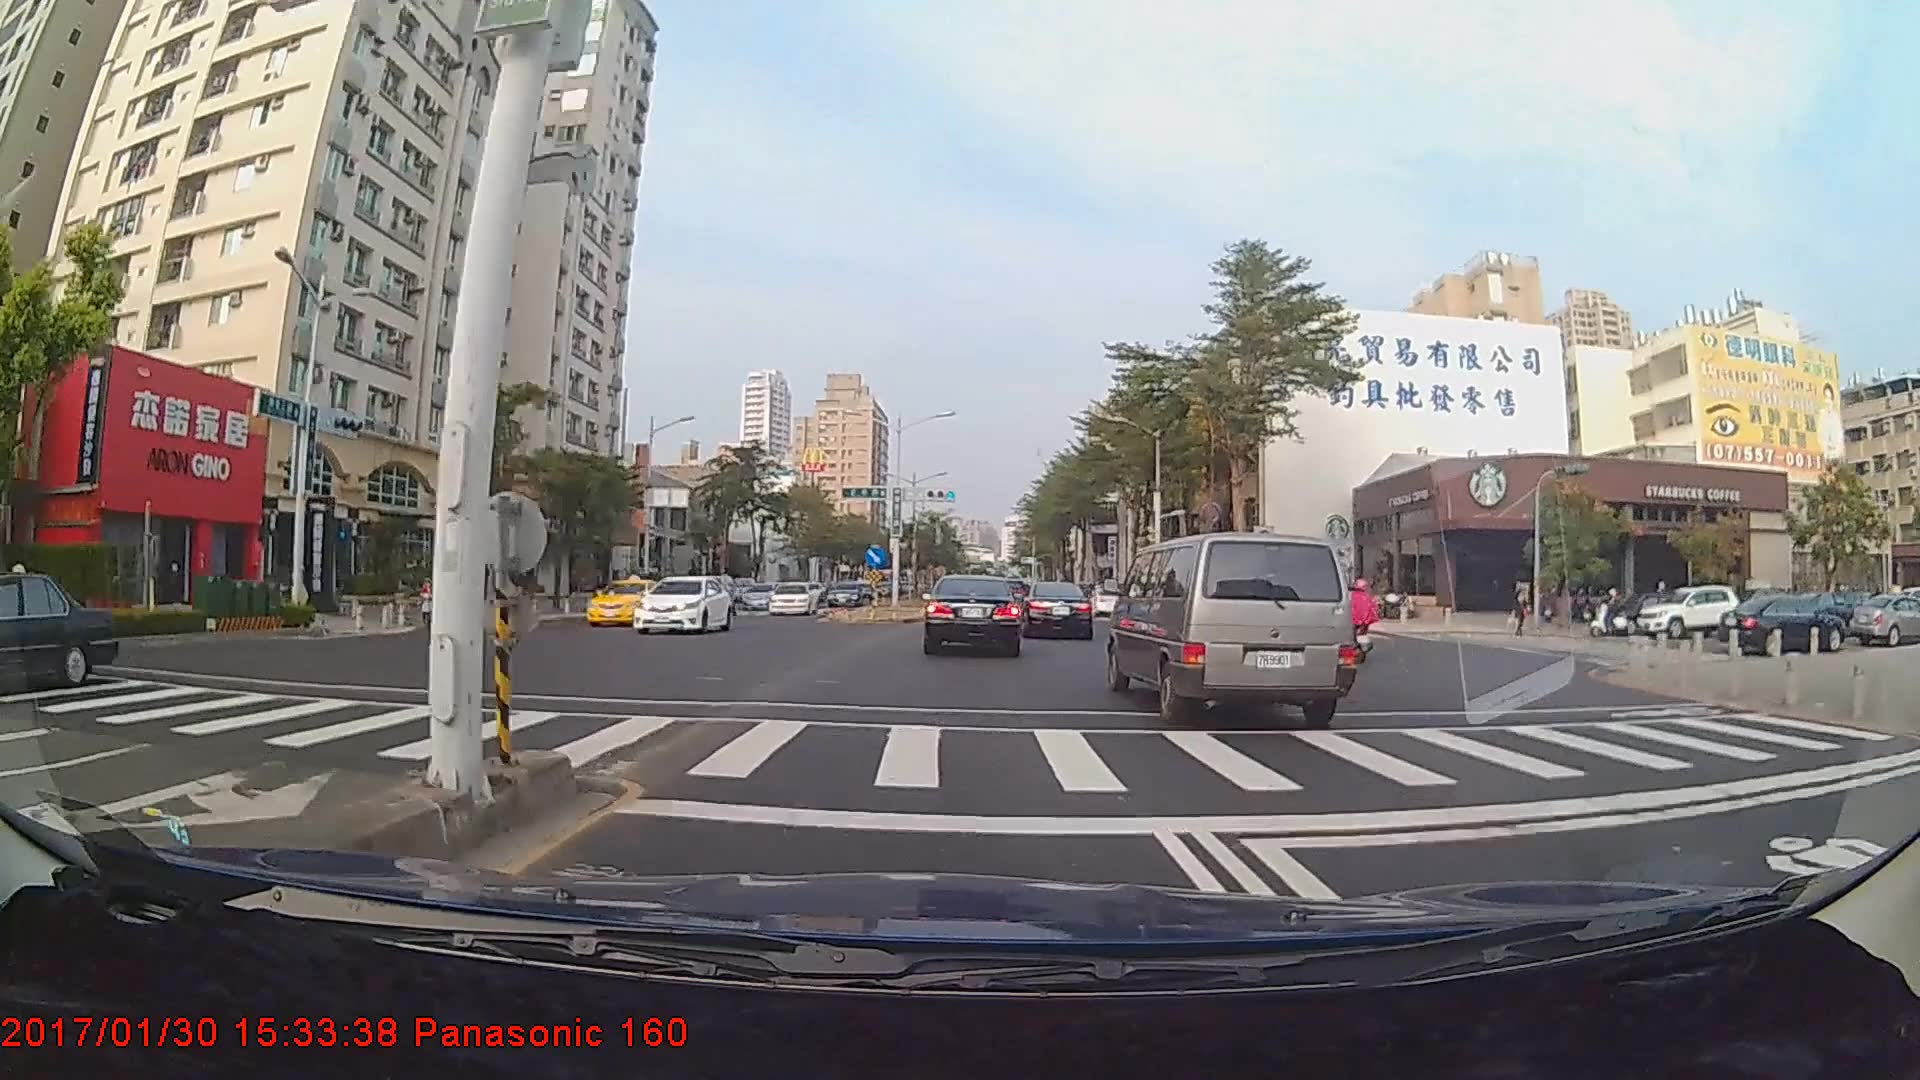rider: (1593, 583, 1636, 640)
vehicle: (1109, 531, 1354, 725), (0, 571, 120, 684), (921, 574, 1024, 657), (1711, 591, 1843, 650), (632, 571, 735, 634), (1634, 586, 1742, 639), (1020, 580, 1095, 641), (586, 578, 671, 628), (1847, 594, 1920, 648), (766, 582, 816, 615), (827, 578, 862, 604)
